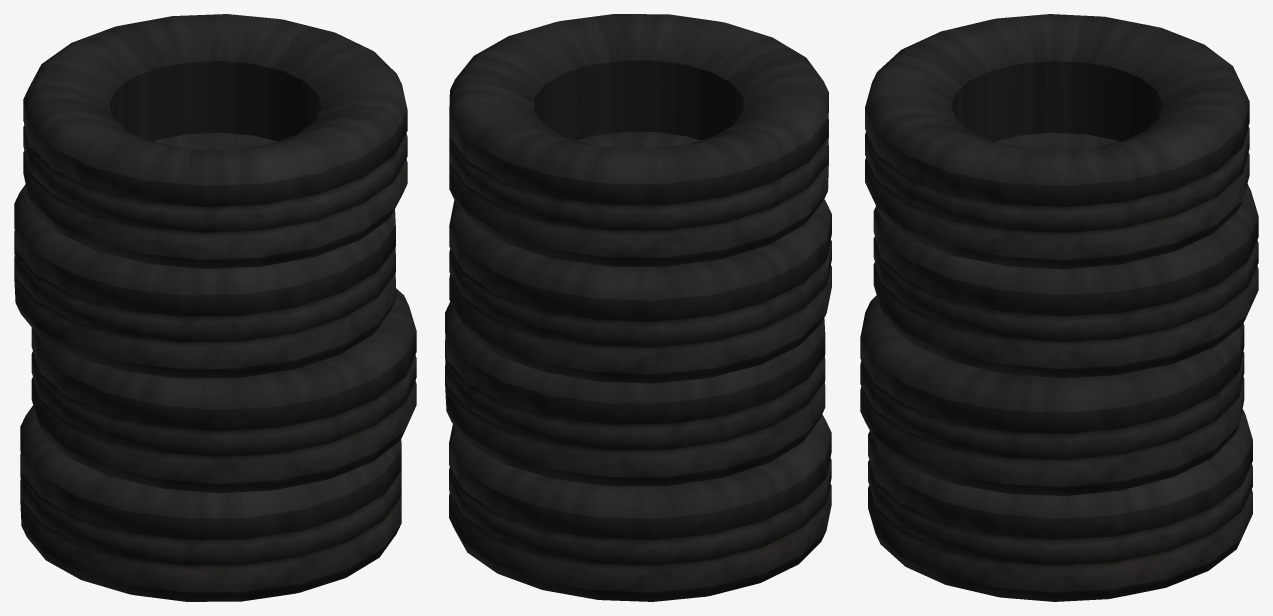
The model's file is tire_stack.glb.
The picture shows the model from 3 angles, left to right: view 1: azimuth 30°, elevation 25°; view 2: azimuth 150°, elevation 25°; view 3: azimuth 270°, elevation 25°; orthographic projection.
Parts seen in each view (by area): view 1: tire_stack; view 2: tire_stack; view 3: tire_stack.
Boxes of the visible parts, x1=… form: tire_stack: x1=14, y1=14, x2=416, y2=601; tire_stack: x1=445, y1=14, x2=831, y2=601; tire_stack: x1=860, y1=14, x2=1258, y2=601.
Bounding box in the file's own units: 0.8074 × 0.986 × 0.8067.
1 material, 1 textured.
